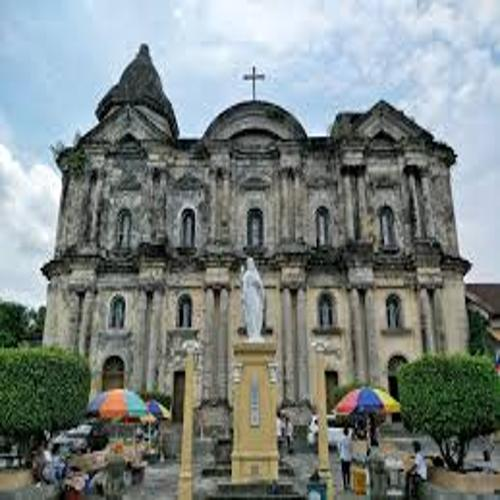Taal Basilica Church: (29, 32, 478, 436)
